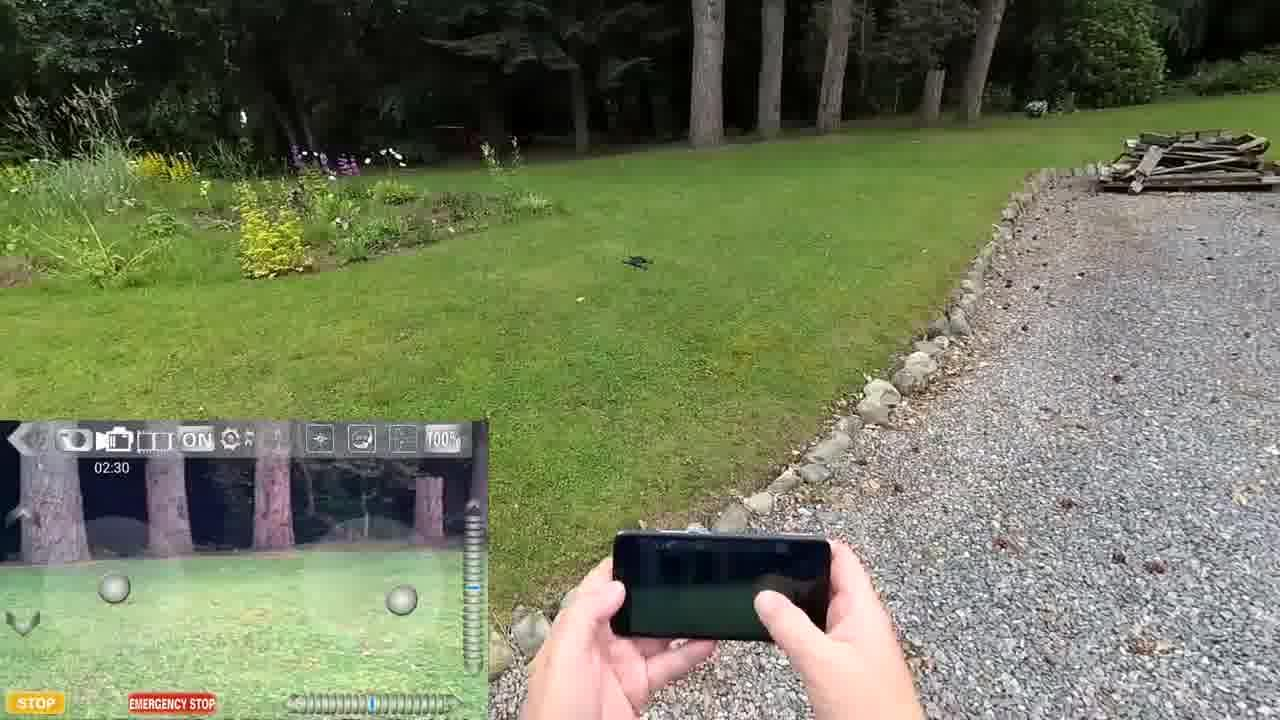drone: (611, 244, 670, 282)
